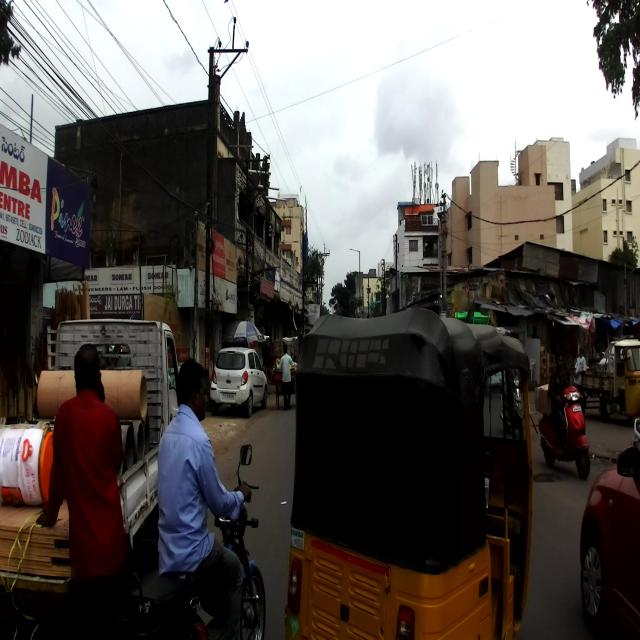autorickshaw: (281, 304, 536, 638)
car: (208, 344, 268, 416)
motorcycle: (125, 442, 267, 638)
scooter: (534, 382, 592, 479)
truck: (0, 314, 187, 638)
